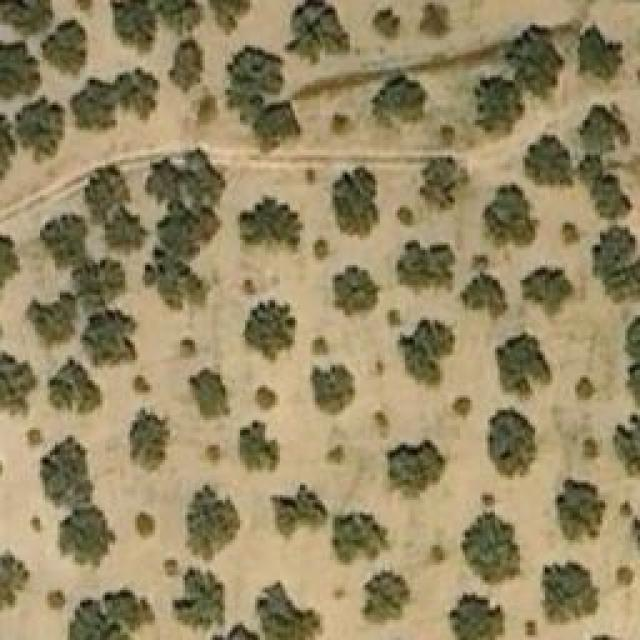Tree: (458, 508, 527, 590), (28, 433, 101, 510), (538, 555, 612, 629), (505, 18, 575, 95), (550, 470, 619, 548), (484, 400, 542, 488), (248, 575, 326, 639), (140, 255, 213, 321), (180, 488, 244, 563), (480, 185, 540, 263), (65, 587, 152, 640), (167, 567, 230, 640), (285, 0, 354, 66), (233, 195, 303, 260), (392, 315, 457, 385), (572, 155, 638, 222), (493, 333, 556, 402), (148, 148, 218, 208), (590, 220, 640, 304), (155, 203, 222, 264), (45, 504, 113, 564), (78, 305, 139, 371), (28, 285, 88, 350), (382, 440, 449, 498), (43, 357, 101, 422), (15, 90, 65, 163), (245, 295, 297, 365), (570, 18, 628, 80), (218, 48, 282, 104), (470, 78, 529, 138), (73, 67, 124, 136), (183, 365, 237, 430), (395, 235, 461, 288), (330, 168, 379, 239), (333, 505, 395, 561), (105, 52, 156, 120), (371, 75, 428, 135), (363, 557, 412, 625), (525, 130, 578, 192), (235, 425, 286, 487), (308, 365, 366, 419), (458, 268, 516, 322), (268, 480, 324, 535), (575, 103, 632, 157), (248, 105, 309, 155), (423, 155, 468, 222), (40, 203, 90, 262), (70, 258, 123, 313), (333, 263, 386, 318), (130, 407, 172, 476), (525, 258, 572, 316), (448, 588, 499, 640), (103, 205, 151, 258), (45, 20, 89, 77), (88, 163, 135, 212), (0, 545, 31, 619), (105, 0, 158, 43), (0, 40, 39, 98), (152, 0, 210, 39), (168, 40, 208, 93), (207, 0, 256, 40), (2, 0, 50, 39), (0, 347, 27, 413), (248, 377, 288, 417), (370, 0, 406, 42), (233, 88, 270, 126), (413, 0, 450, 34), (320, 110, 354, 147), (200, 437, 229, 478), (0, 225, 16, 299), (303, 335, 337, 366), (168, 333, 201, 364), (0, 112, 14, 182), (620, 315, 640, 358), (620, 360, 640, 403), (20, 420, 47, 449), (308, 233, 335, 260), (240, 277, 263, 296)
